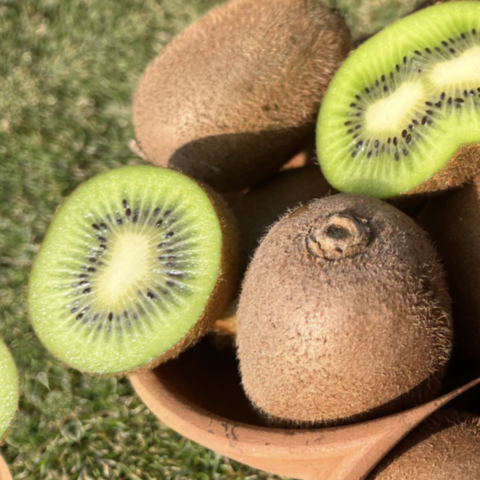kiwi: (151, 118, 480, 480), (75, 0, 401, 243)
